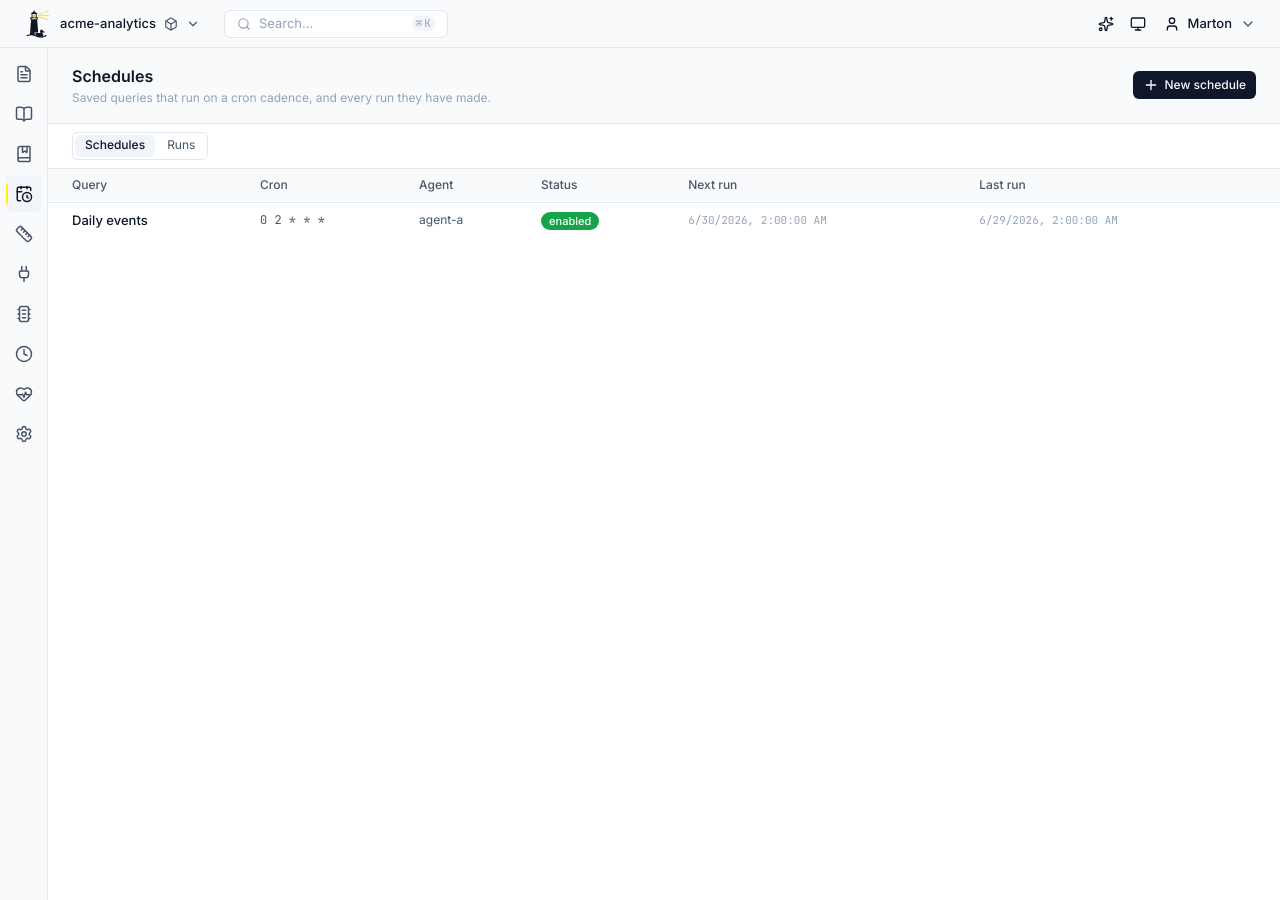
Test case: SchedulesPage › creates a new schedule from the New schedule dialog
This screenshot has width=1280, height=900.
Check: the text "Daily events" is shown, box top-left (48, 202), bottom-right (248, 238)
Click the button "New schedule": (1194, 85) top-left (1132, 71), bottom-right (1256, 99)
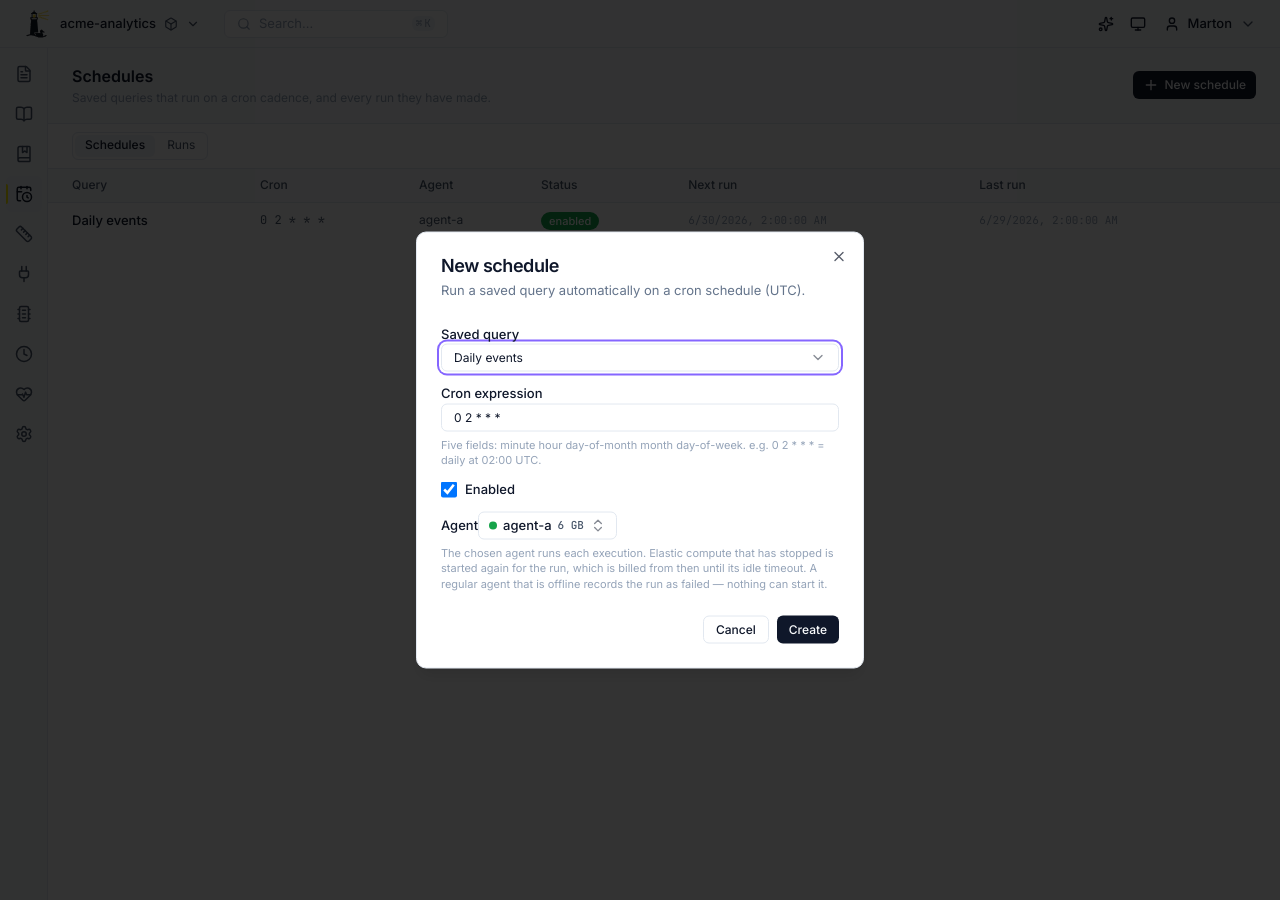
Check: the heading "New schedule" is shown, box top-left (441, 254), bottom-right (559, 276)
Check: the dropdown named "Saved query" is shown, box top-left (441, 344), bottom-right (839, 372)
Click the button "Create": (808, 630) top-left (777, 616), bottom-right (839, 644)
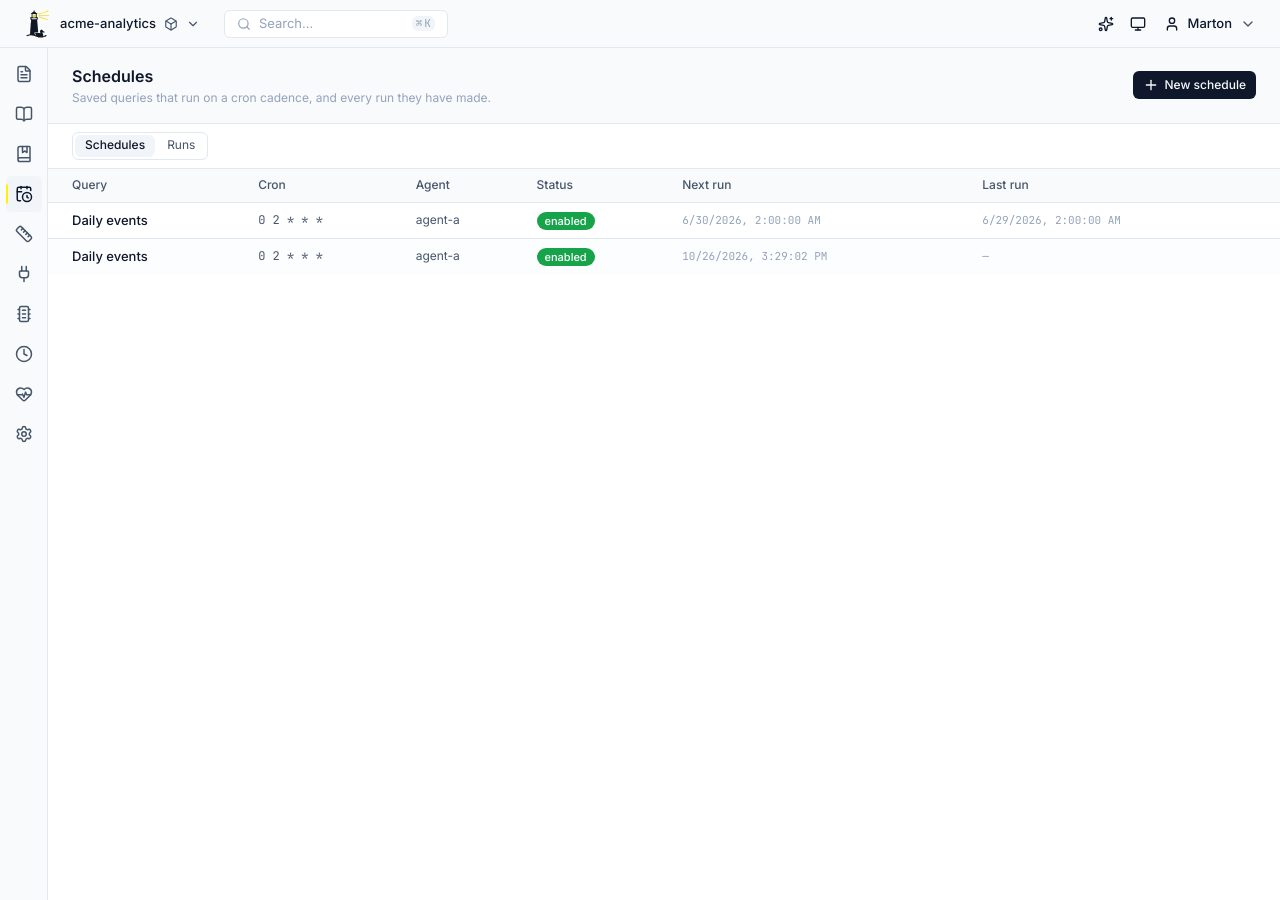
Check: the dialog is gone
